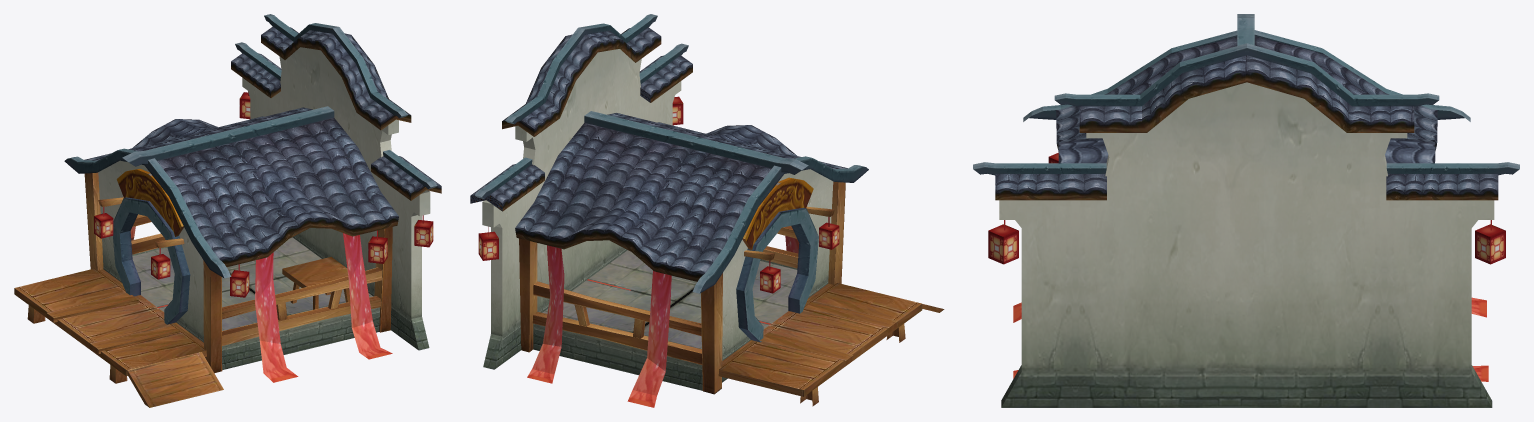
The model's file is suzhoucheng_building_02a.FBX.
The picture shows the model from 3 angles, left to right: view 1: azimuth 30°, elevation 25°; view 2: azimuth 150°, elevation 25°; view 3: azimuth 270°, elevation 25°; orthographic projection. The views are drawn at different scales.
Visible parts, largest first — view 1: suzhoucheng_object_02_01; view 2: suzhoucheng_object_02_01; view 3: suzhoucheng_object_02_01.
Boxes of the visible parts, x1,y1,x2,y2 form: suzhoucheng_object_02_01: (14,14,441,407); suzhoucheng_object_02_01: (470,14,944,407); suzhoucheng_object_02_01: (973,14,1519,407).
Size of the model in its own units: 450 by 393 by 536.
